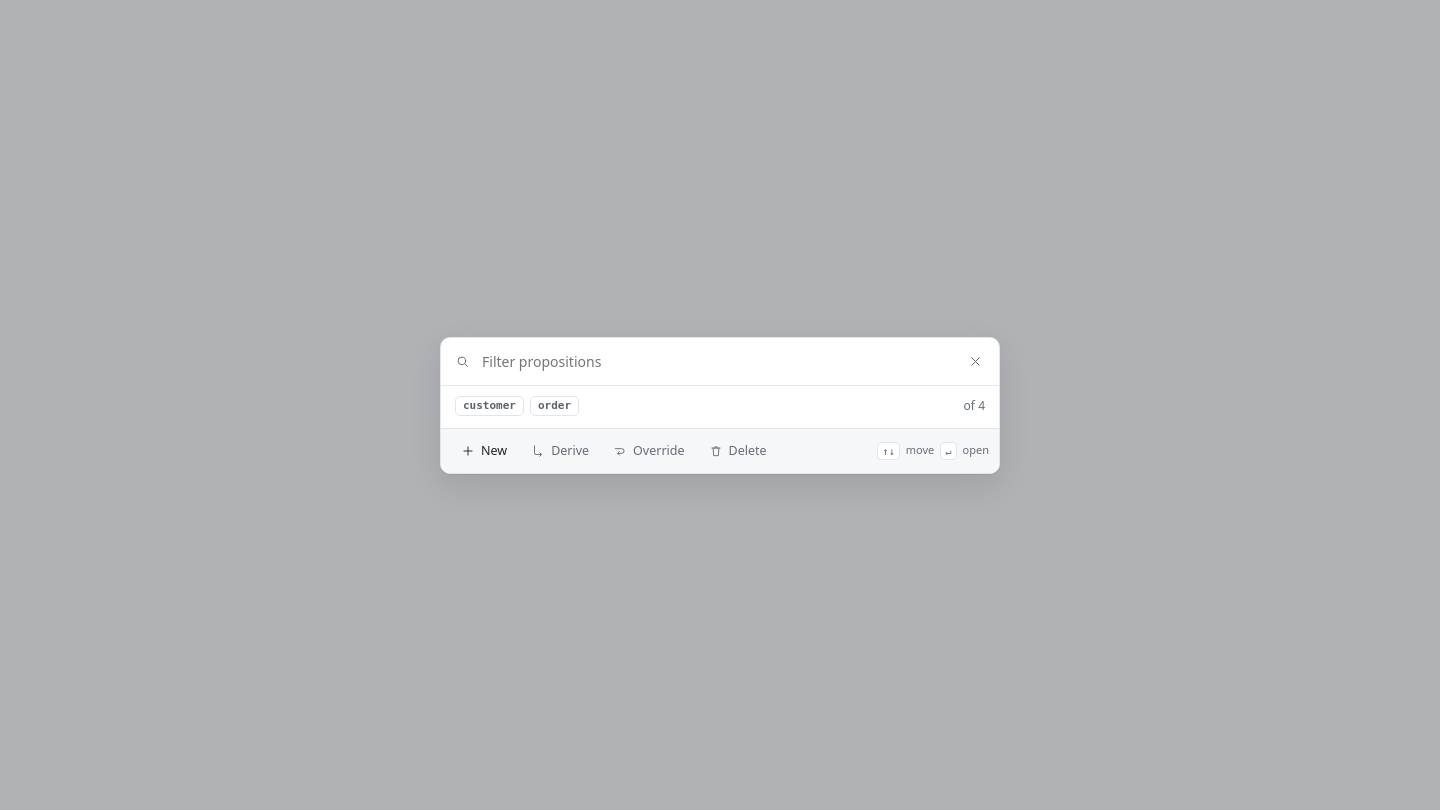
Scenario: PropositionExplorer › flattens to matching rows as you type, matching the full dotted path
Step 1. Type "risk.is-fraud" into the dropdown → (732, 361), box [480,350,985,372]
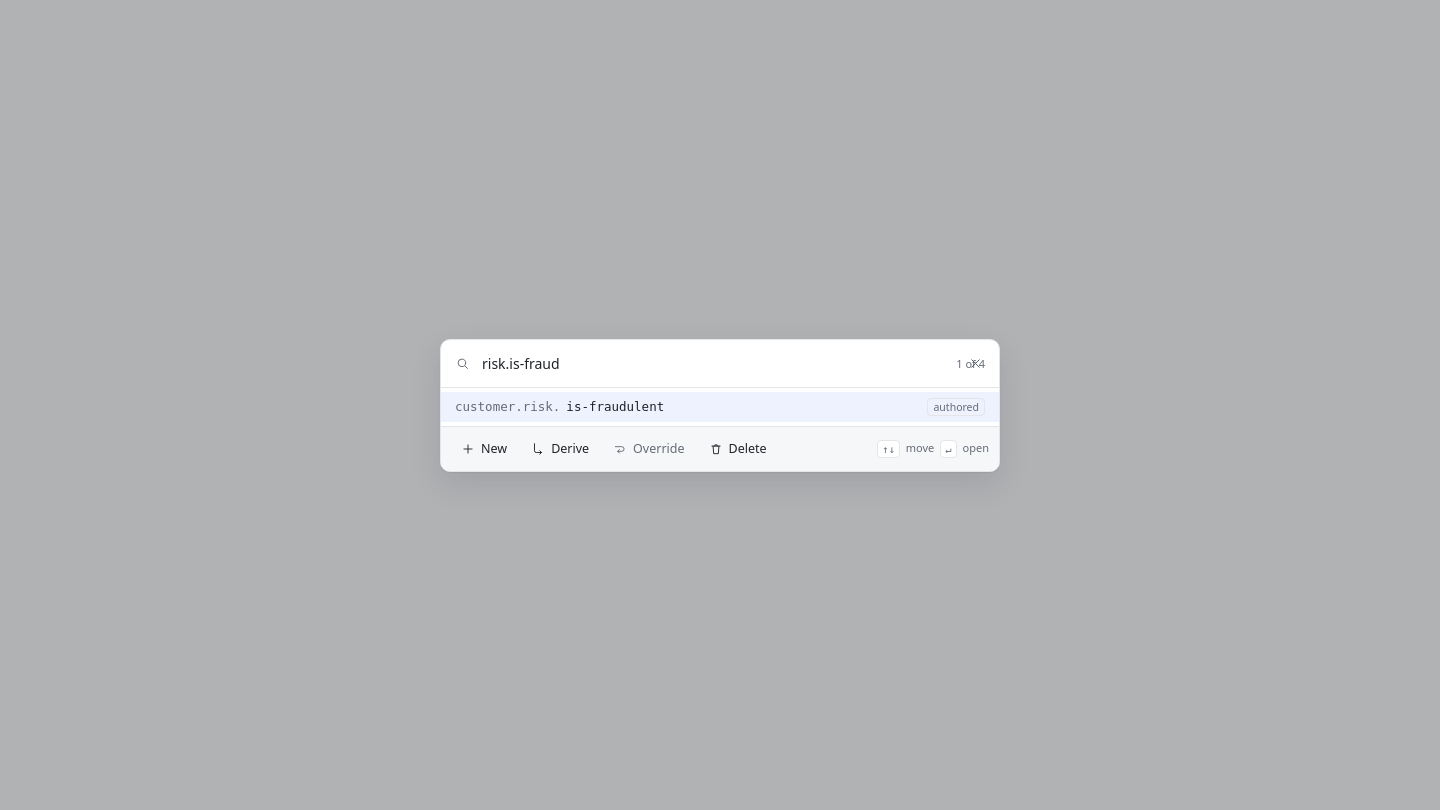
Check: the number of options is 1, box [441,392,999,422]
Check: the option shows "is-fraudulent", box [441,392,999,422]
